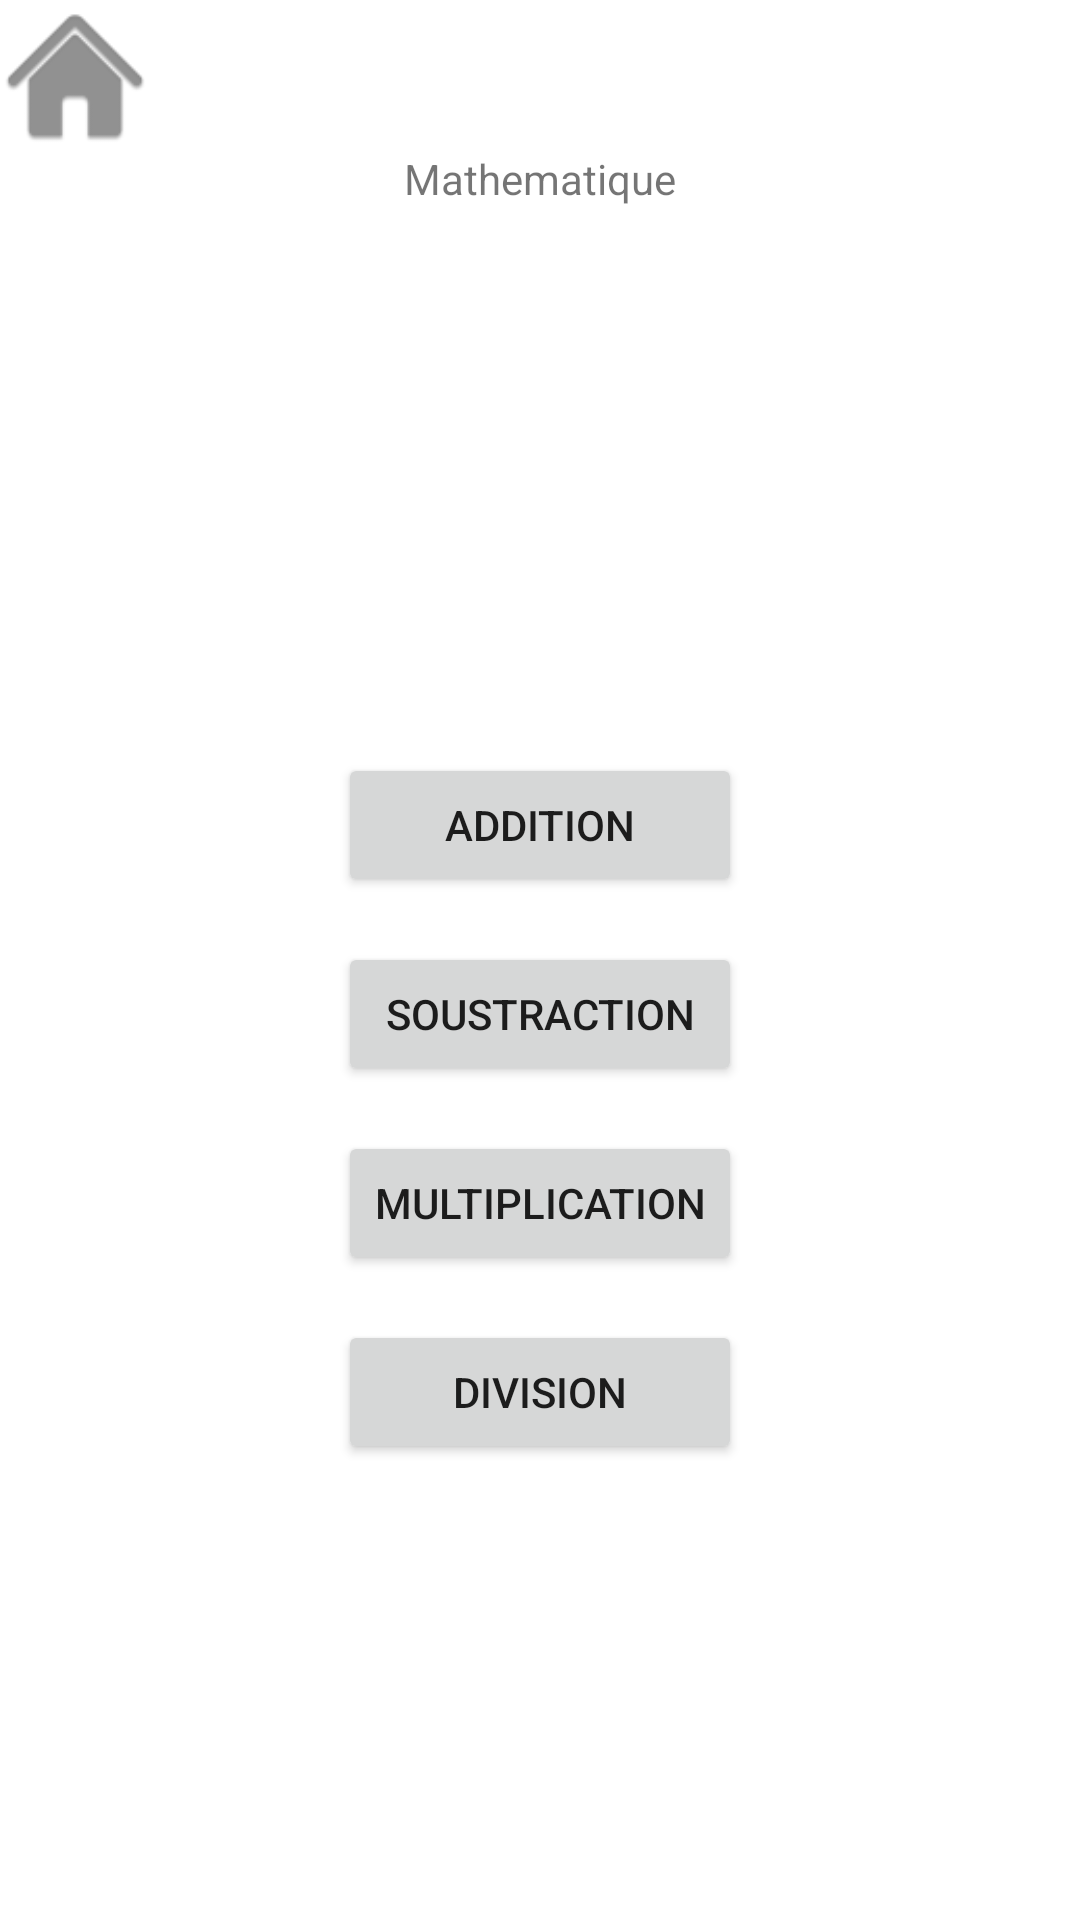

Screen size 1080*1920. Icon name, then its center in pixels as (x=x, y=y):
home: (x=75, y=77)
